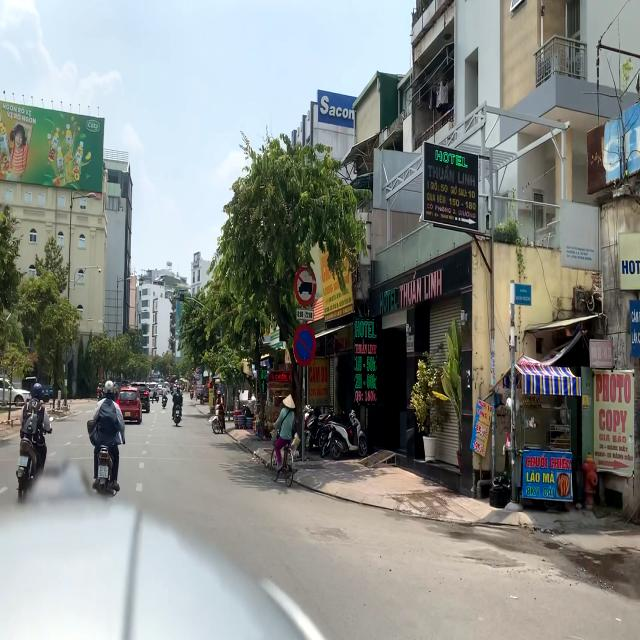P.106a: (294, 264, 316, 306)
P.131a: (294, 324, 316, 365)
